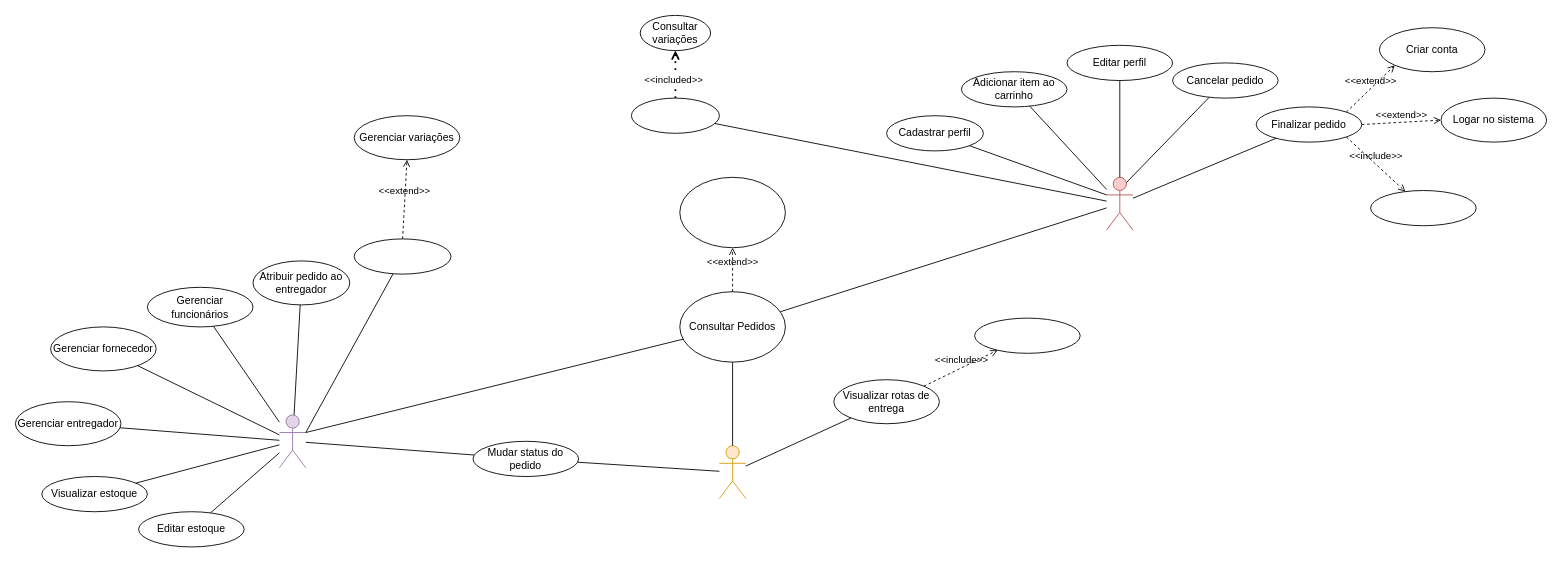
Some shapes in this 1562 by 562 pixel diagram are drawn without their labels. The centre of each missing label's shape, as x and y in pixels:
"Acompanhar entrega" goes at point 732,212.
"Calcular frete" goes at point 1423,208.
"Calcular rota de entrega" goes at point 1027,335.
"Cliente" goes at point 1119,203.
"Consultar Produtos" goes at point 675,115.
"Entregador" goes at point 732,472.
"Funcionário" goes at point 292,441.
"Gerenciar produto" goes at point 402,256.
